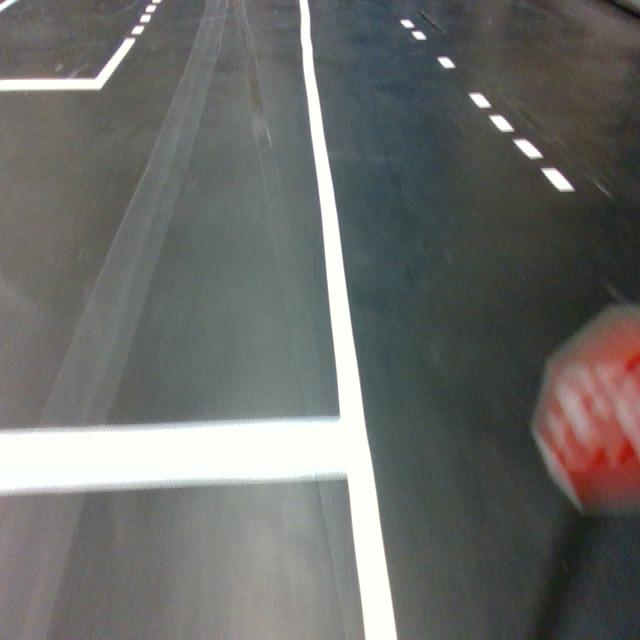stop-sign: (529, 300, 640, 520)
